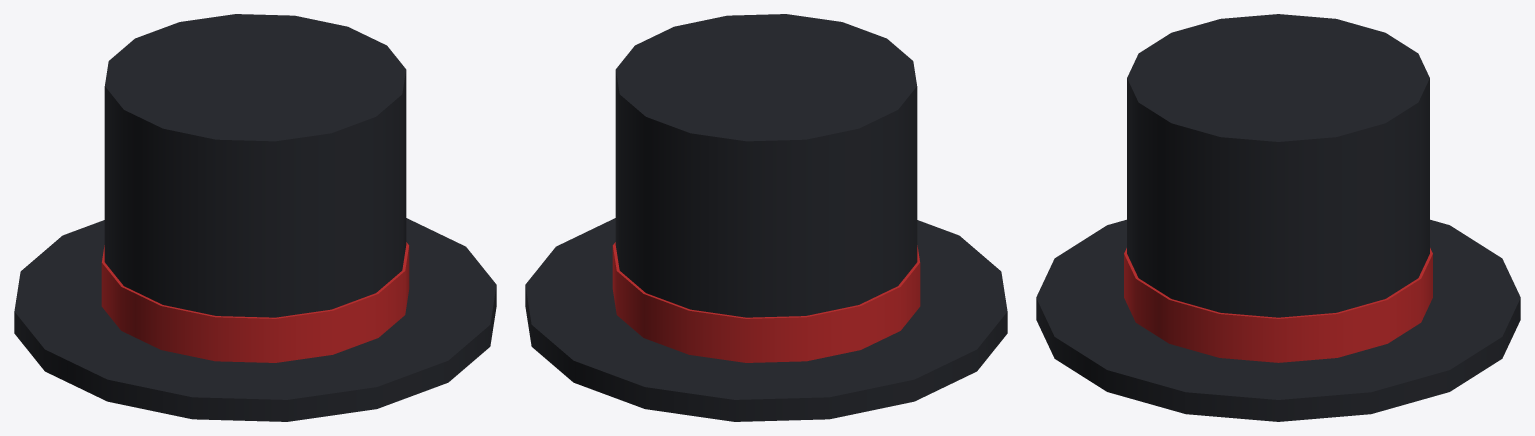
The model's file is acc_tophat.glb.
The picture shows the model from 3 angles, left to right: view 1: azimuth 30°, elevation 25°; view 2: azimuth 150°, elevation 25°; view 3: azimuth 270°, elevation 25°; orthographic projection.
Visible parts, largest first — view 1: acc_tophat; view 2: acc_tophat; view 3: acc_tophat.
Part boxes in pixels (box(x1,y1,x2,y2)): acc_tophat: box(14, 14, 496, 421); acc_tophat: box(525, 14, 1007, 421); acc_tophat: box(1036, 14, 1520, 421).
Bounding box in the file's own units: 0.8 × 0.44 × 0.8.
